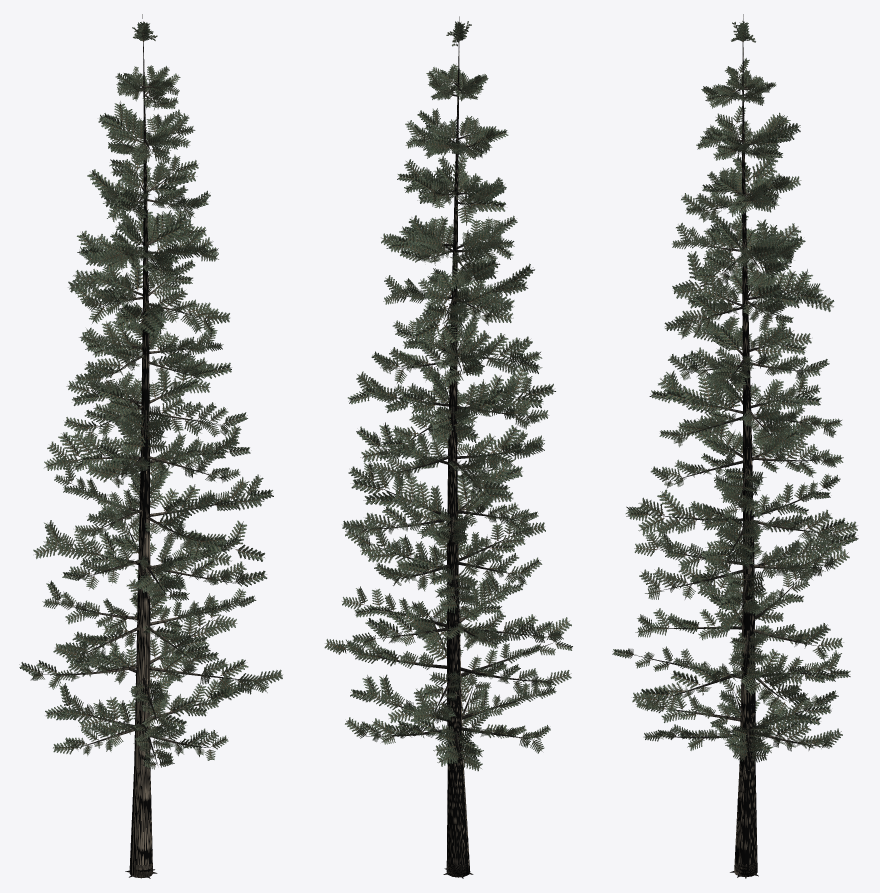
Rendered from Sitka_Young_02_Unpruned_LOD0.fbx.
3 views of the same model, side by side, from view 1: azimuth 30°, elevation 25°; view 2: azimuth 150°, elevation 25°; view 3: azimuth 270°, elevation 25° (orthographic).
Visible parts, largest first — view 1: Sitka_Young_02_Unpruned_LOD0; view 2: Sitka_Young_02_Unpruned_LOD0; view 3: Sitka_Young_02_Unpruned_LOD0.
Boxes of the visible parts, x1,y1,x2,y2 form: Sitka_Young_02_Unpruned_LOD0: (19,14,282,878); Sitka_Young_02_Unpruned_LOD0: (324,16,572,878); Sitka_Young_02_Unpruned_LOD0: (612,14,858,878).
Bounding box in the file's own units: 303 × 1050 × 286.
2 materials, 2 textured.
